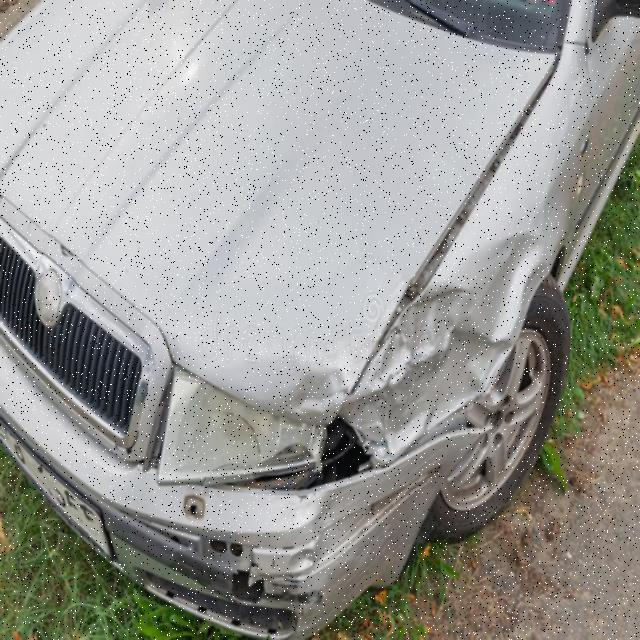Headlight-Damage: (156, 348, 334, 498)
fender-dent: (352, 236, 583, 526)
front-bumper-dent: (39, 435, 492, 629)
